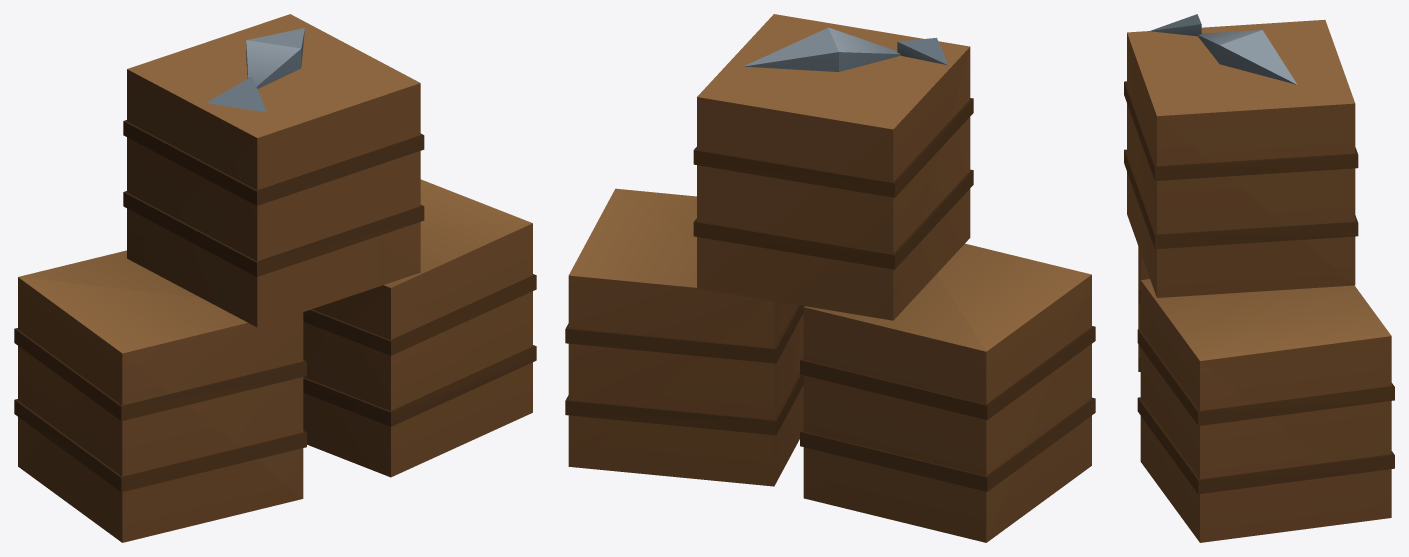
File: crates.glb
3 views of the same model, side by side, from view 1: azimuth 30°, elevation 25°; view 2: azimuth 150°, elevation 25°; view 3: azimuth 270°, elevation 25° (orthographic). The views are drawn at different scales.
Visible parts, largest first — view 1: base; view 2: base; view 3: base.
Part boxes in pixels (left/top/right/bottom): base: left=14, top=14, right=536, bottom=542; base: left=565, top=14, right=1095, bottom=542; base: left=1124, top=14, right=1394, bottom=542.
Bounding box in the file's own units: 0.3946 × 0.3468 × 0.2159.
